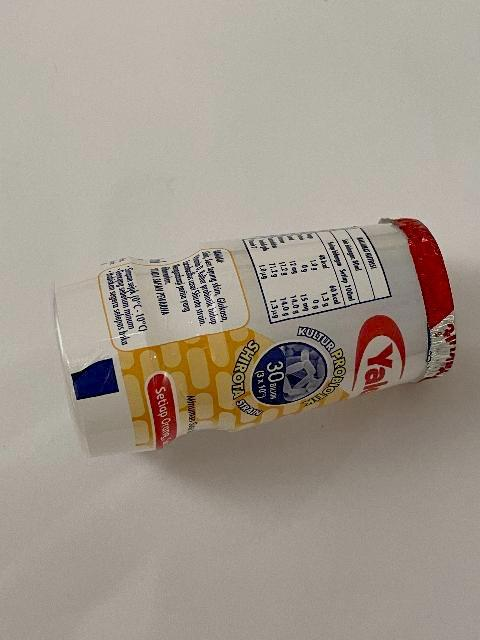plasticbottle: (48, 216, 458, 464)
